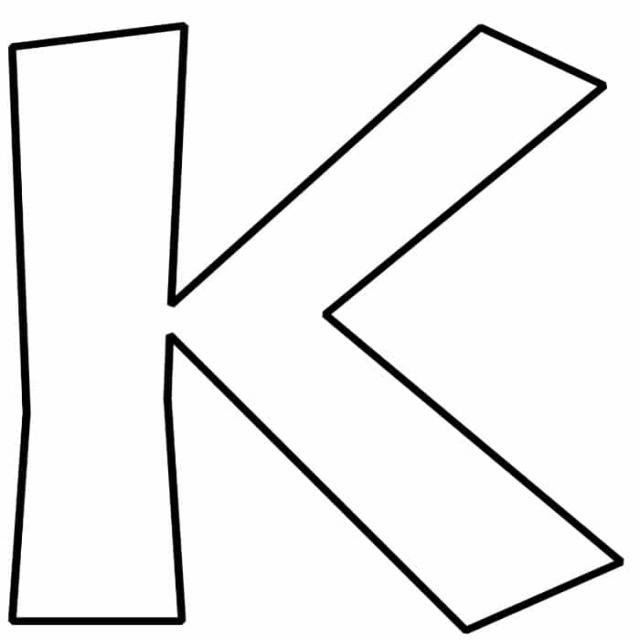K: (0, 7, 640, 640)
